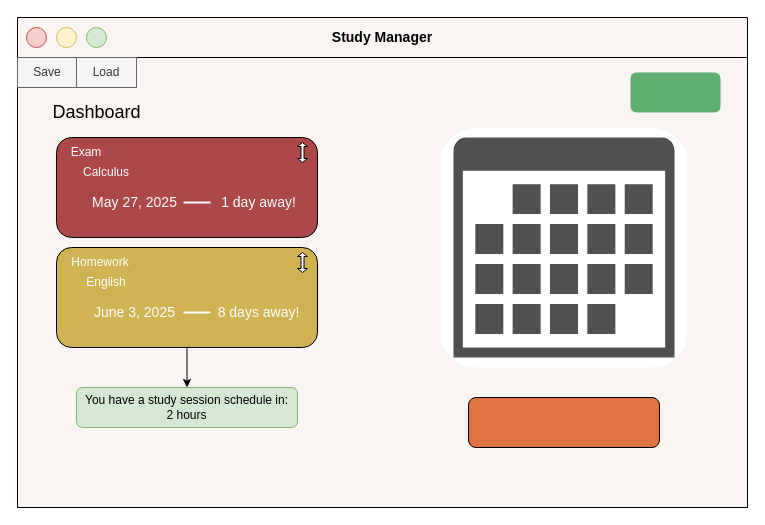
Image size: 765x525. Some labels were removed from this diagram. The shapes that lost their labels are listed below. From the top down, each one's centre as x and y in pixels, then its label:
At point (675, 92): "+ Add Task".
At point (564, 422): "You've studied 3 days in a row!".
